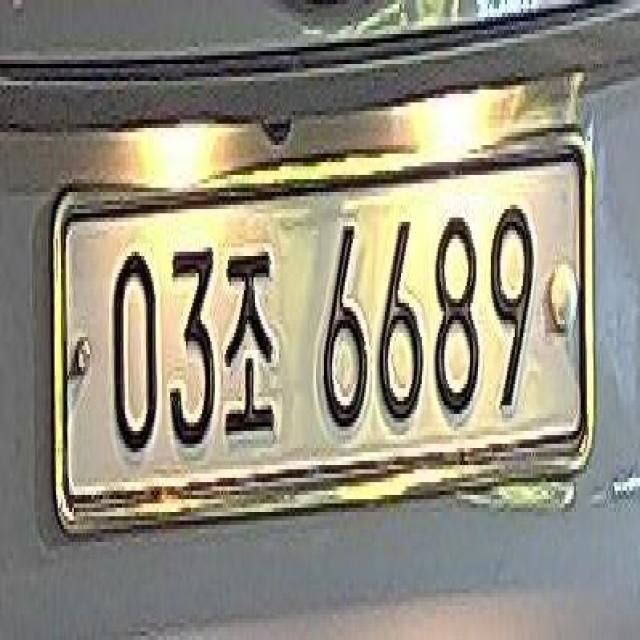illegal_plate: (54, 139, 595, 524)
